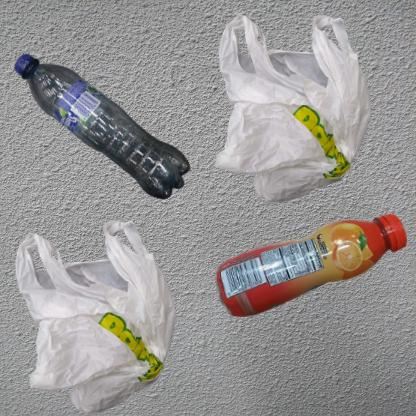bolsa: (10, 213, 192, 416), (213, 10, 375, 209)
botella: (10, 10, 238, 287), (213, 213, 412, 318)
